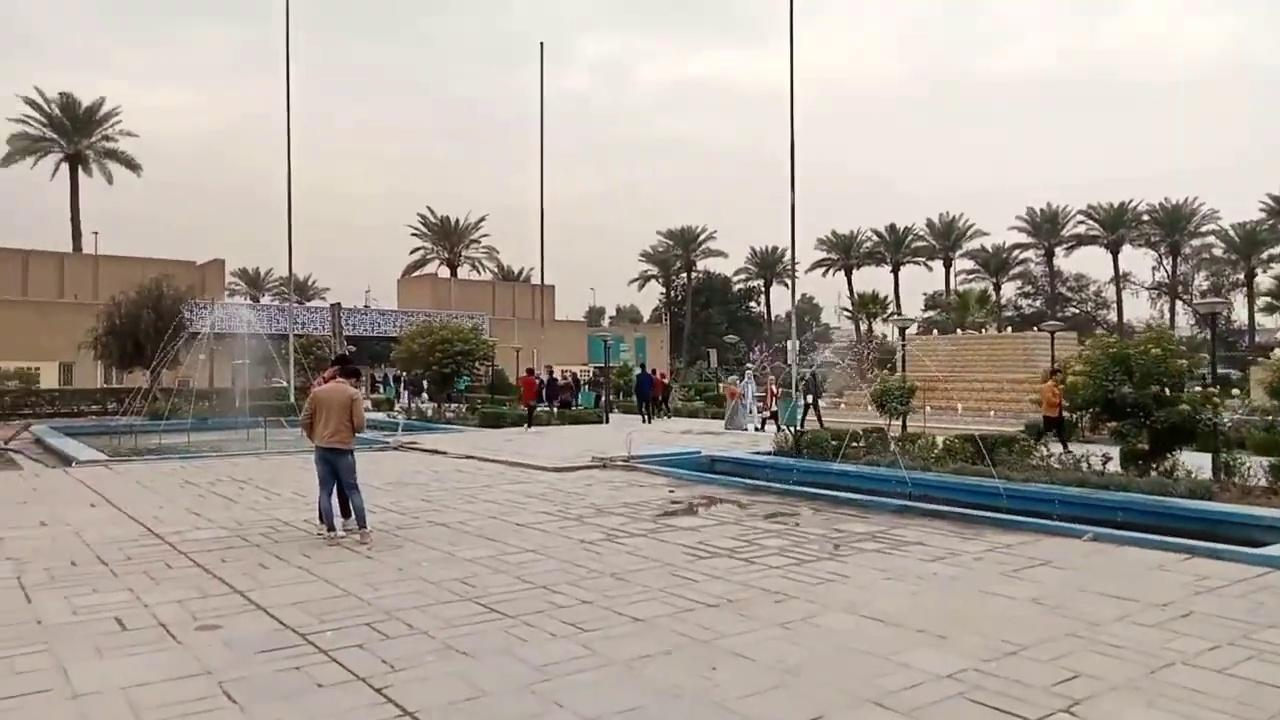car: (1184, 366, 1248, 393)
fountain: (593, 424, 1279, 567), (29, 296, 510, 466), (27, 410, 465, 467)
person: (299, 360, 373, 544), (1035, 368, 1071, 452), (798, 369, 825, 430), (517, 367, 540, 429), (757, 374, 780, 432), (633, 362, 653, 424), (649, 368, 661, 419)
tree: (625, 189, 1278, 416), (0, 84, 142, 252), (77, 271, 197, 386), (1135, 194, 1220, 334), (1065, 197, 1149, 338), (655, 222, 727, 369), (388, 316, 499, 404), (804, 226, 884, 341), (1006, 200, 1080, 322), (224, 264, 284, 413), (627, 242, 689, 379), (268, 270, 330, 403), (1213, 218, 1274, 348), (400, 204, 499, 280), (915, 210, 989, 303), (731, 243, 799, 342), (960, 239, 1031, 331), (867, 221, 931, 316), (837, 288, 892, 377), (1255, 191, 1279, 317), (867, 373, 917, 433), (946, 285, 995, 333), (224, 265, 283, 303), (269, 270, 330, 305), (786, 291, 824, 339), (1257, 190, 1279, 243), (610, 360, 634, 400), (608, 302, 643, 328), (490, 262, 534, 282), (581, 304, 605, 327)
